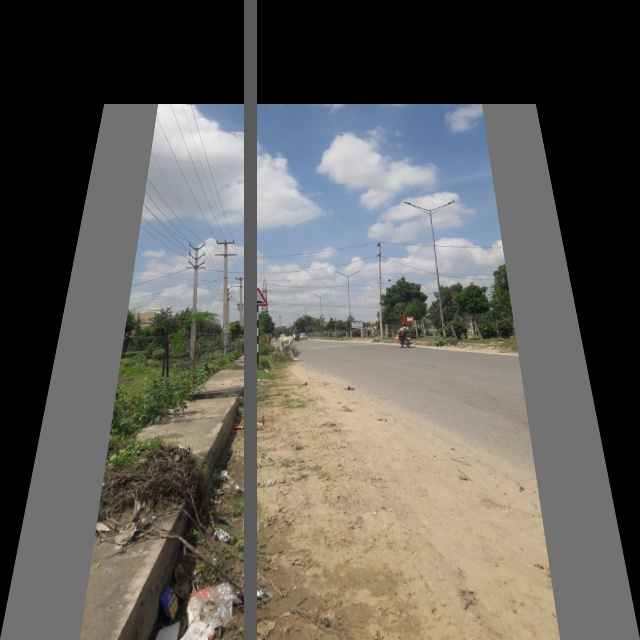Hump_or_Rough_Road: (243, 285, 272, 308)
